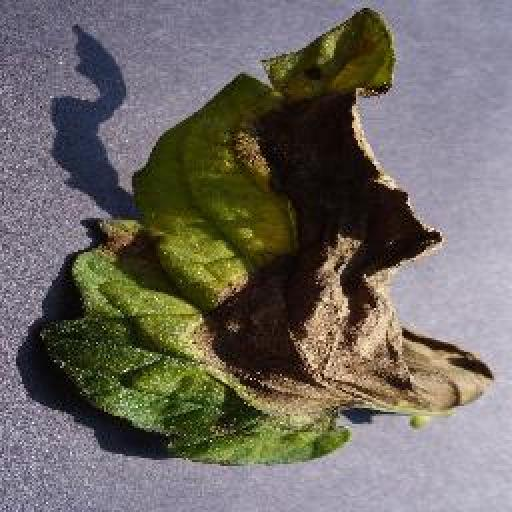Late Blight: (40, 6, 497, 466)
